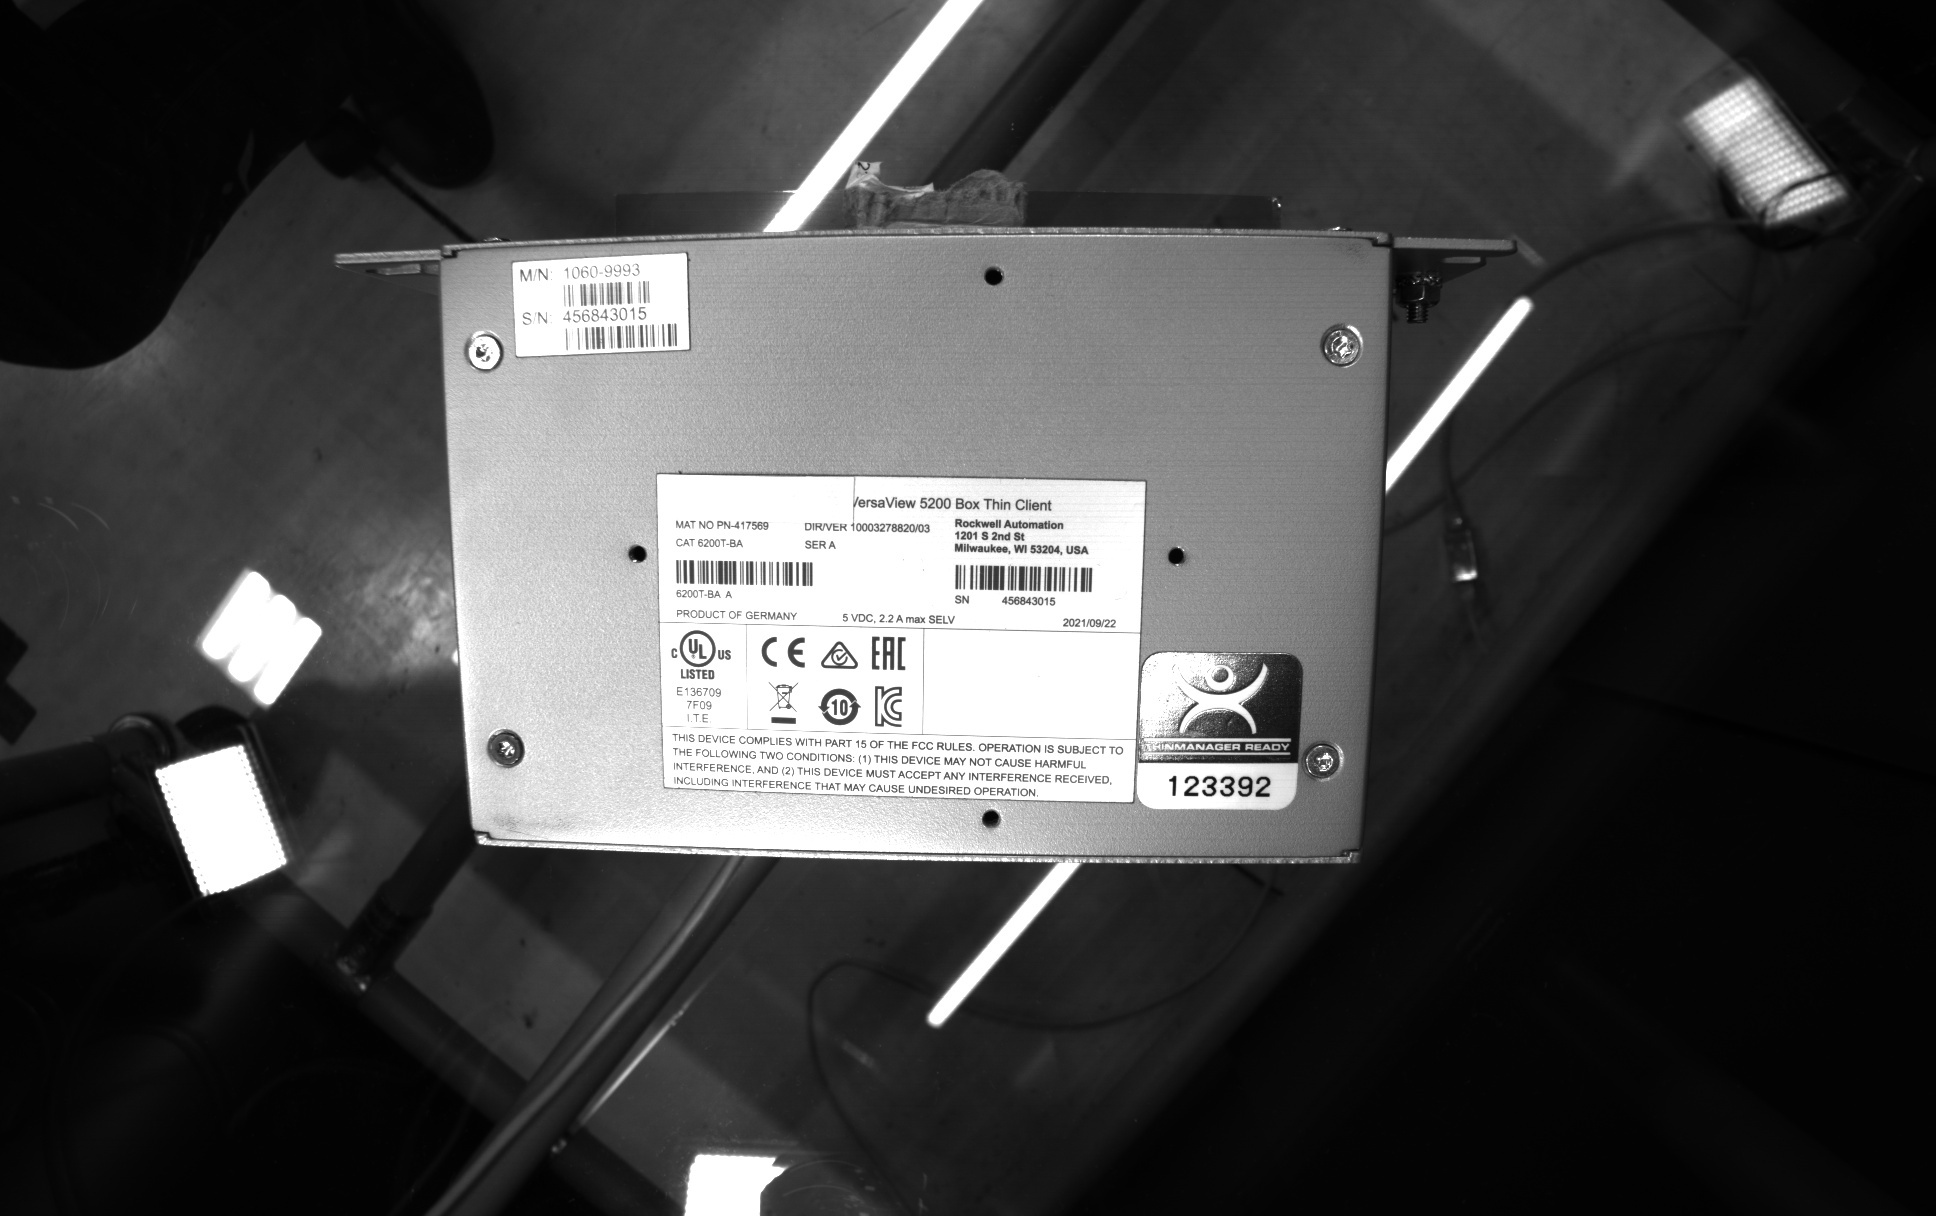Barcode: (946, 559, 1102, 600), (668, 553, 818, 590), (560, 315, 682, 359), (556, 273, 656, 315)
CamTop: (416, 217, 1420, 885)
Label_Seriennummer: (643, 457, 1157, 813)
Loch_Montage: (615, 528, 656, 573), (1154, 532, 1194, 574), (967, 799, 1009, 836), (974, 256, 1014, 291)
Schraube: (1313, 317, 1370, 370), (480, 717, 531, 773), (1299, 733, 1348, 787), (459, 324, 509, 375)
